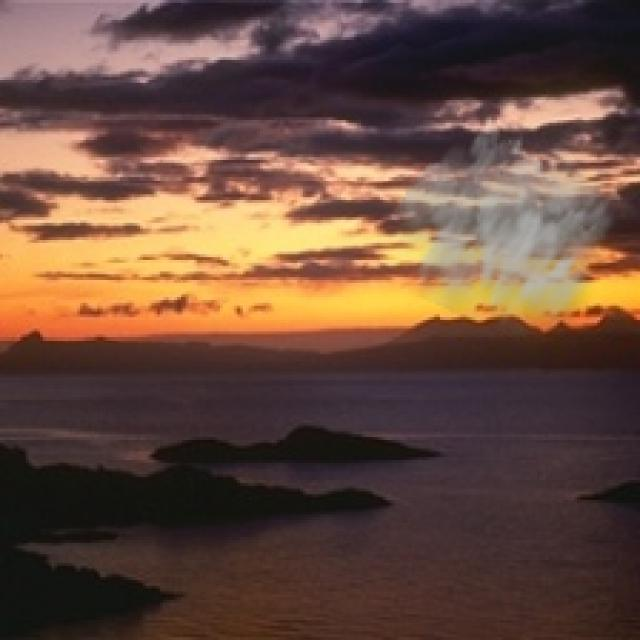Smoke: (383, 120, 626, 357)
